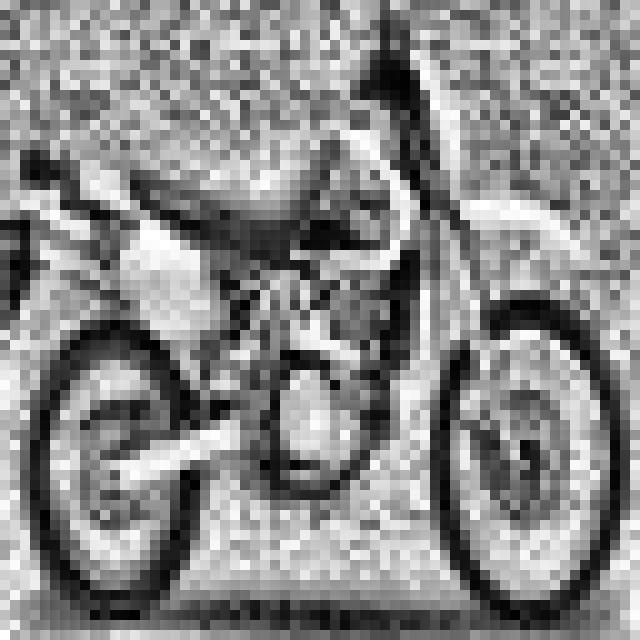mopeds: (0, 24, 640, 632)
